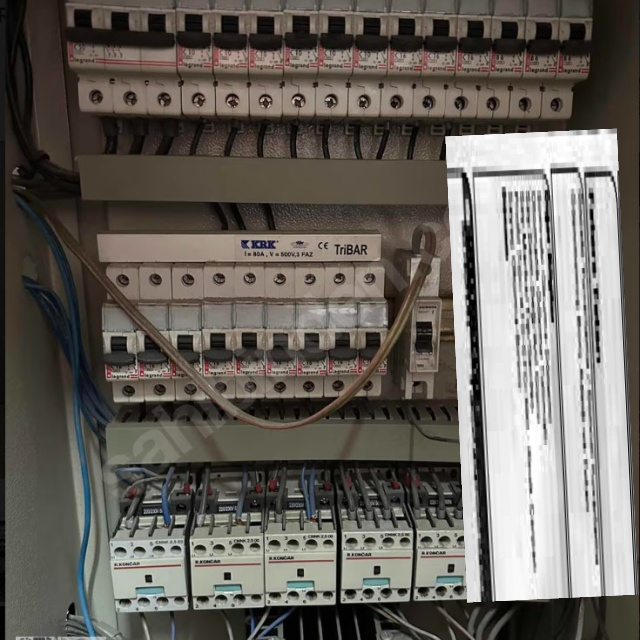electricity-bill: (445, 127, 639, 602)
